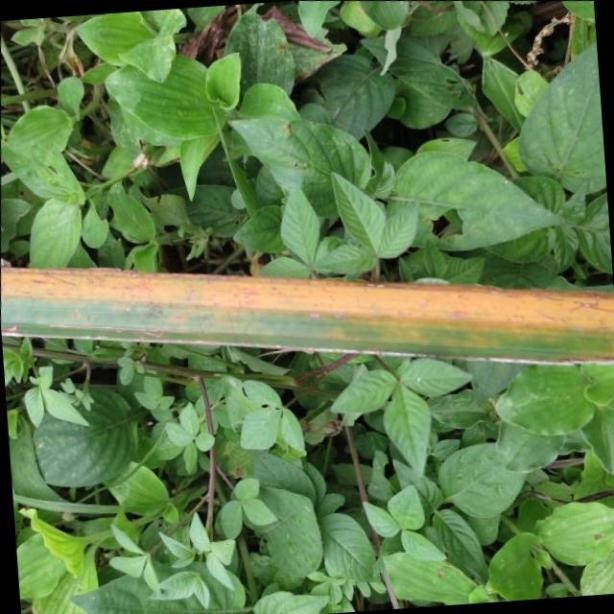Megnesium: (0, 267, 614, 368)
